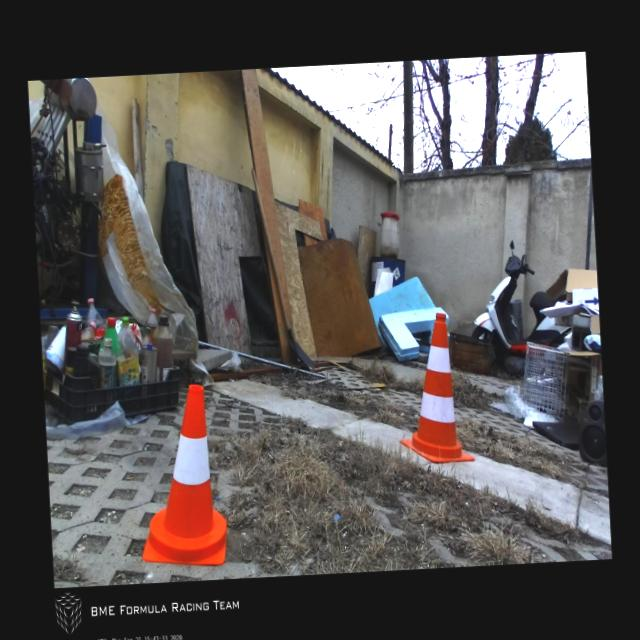large_orange_cone: (394, 312, 474, 466)
orange_cone: (134, 382, 228, 568)
